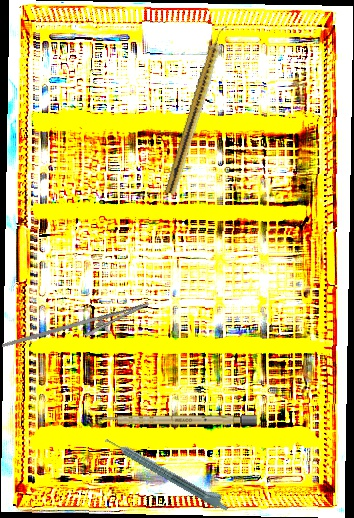Handpiece: (164, 23, 230, 196), (103, 430, 233, 514)
Needle Holder: (1, 284, 154, 376)
Scalpel Handle: (97, 415, 257, 425)
